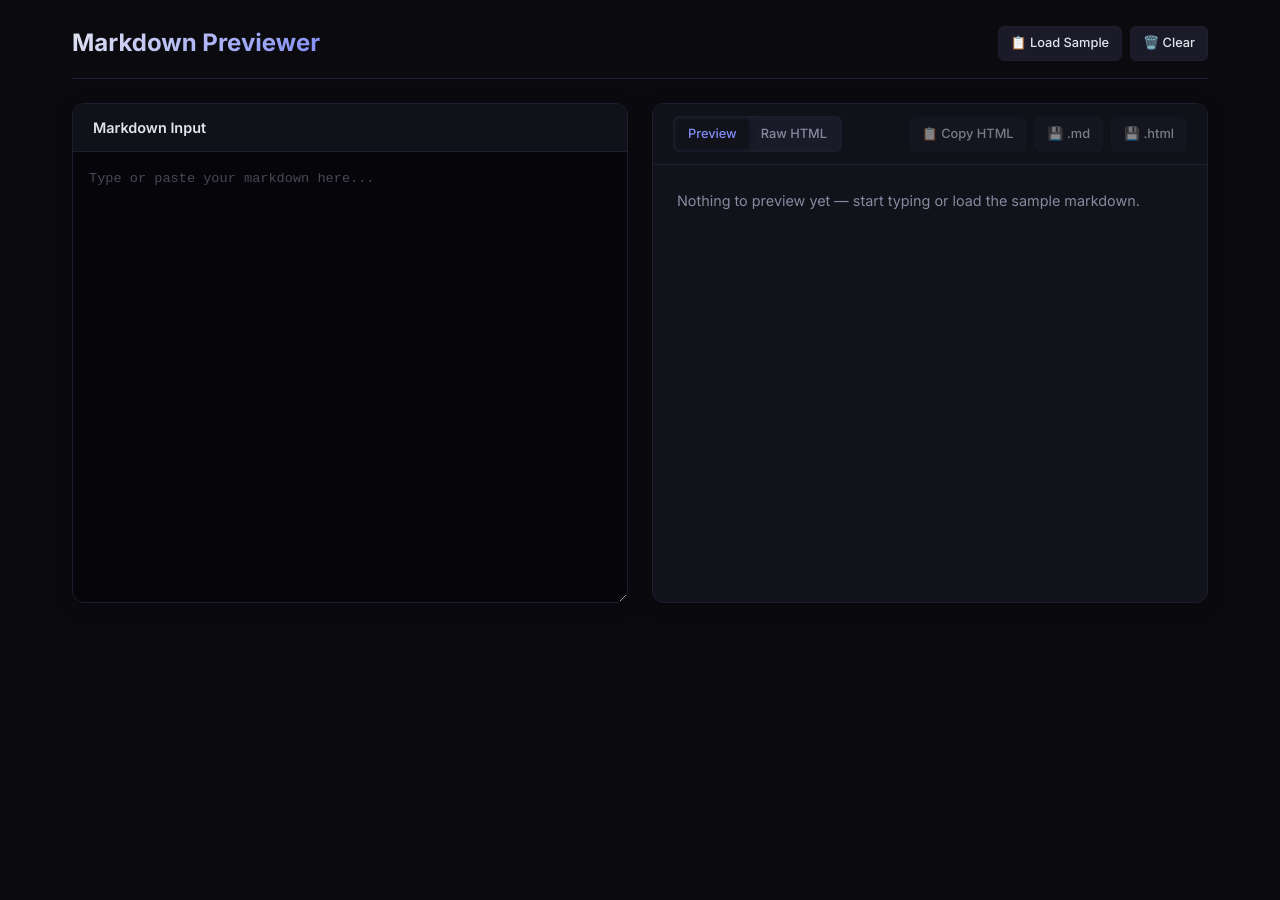
MarkdownTool actions › copies the generated HTML to the clipboard
In the text box named "Markdown input": {"x": 350, "y": 377} [73,152,627,602], type "# Title"
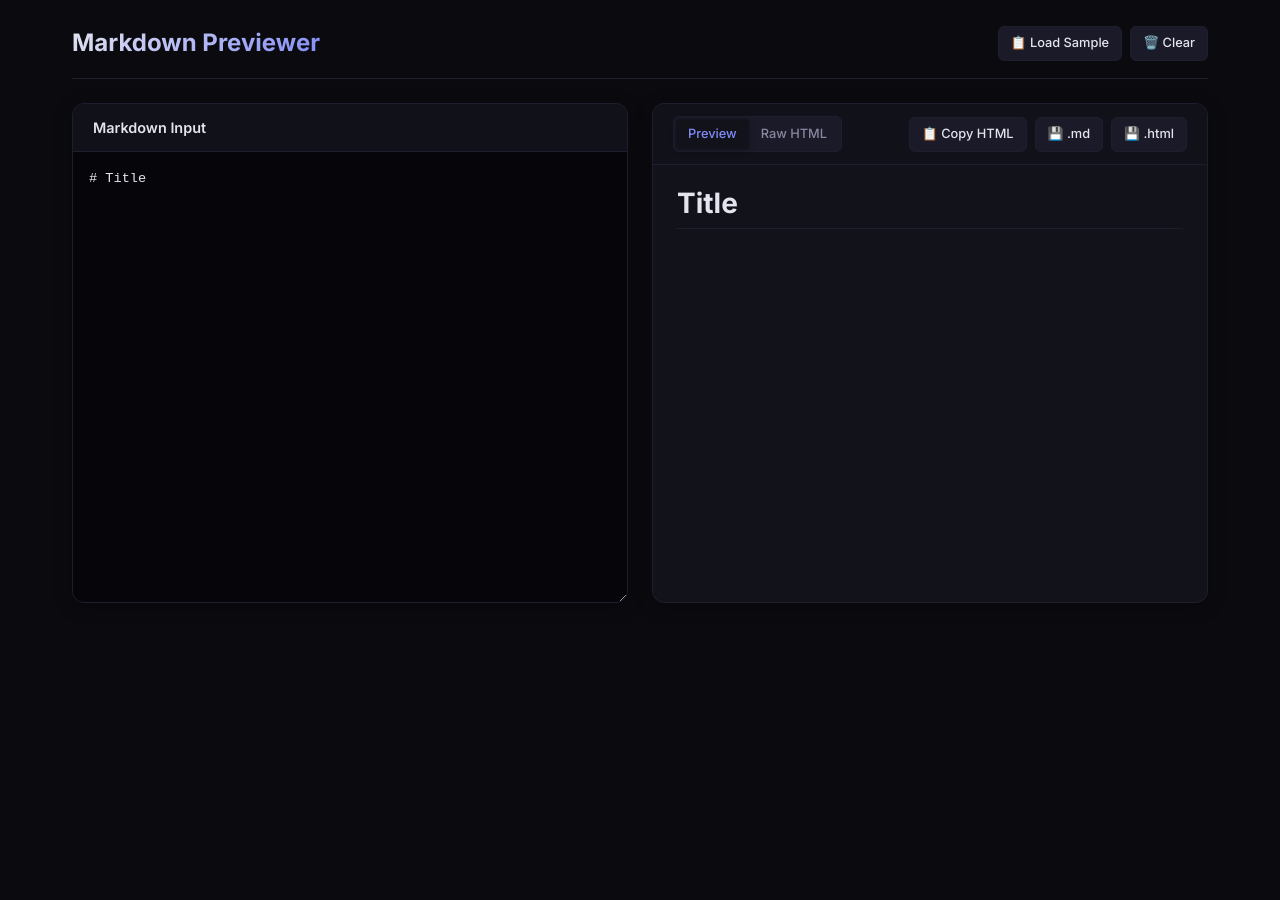
Click the button with aria-label "Copy generated HTML to clipboard": {"x": 968, "y": 134} [909,117,1026,152]
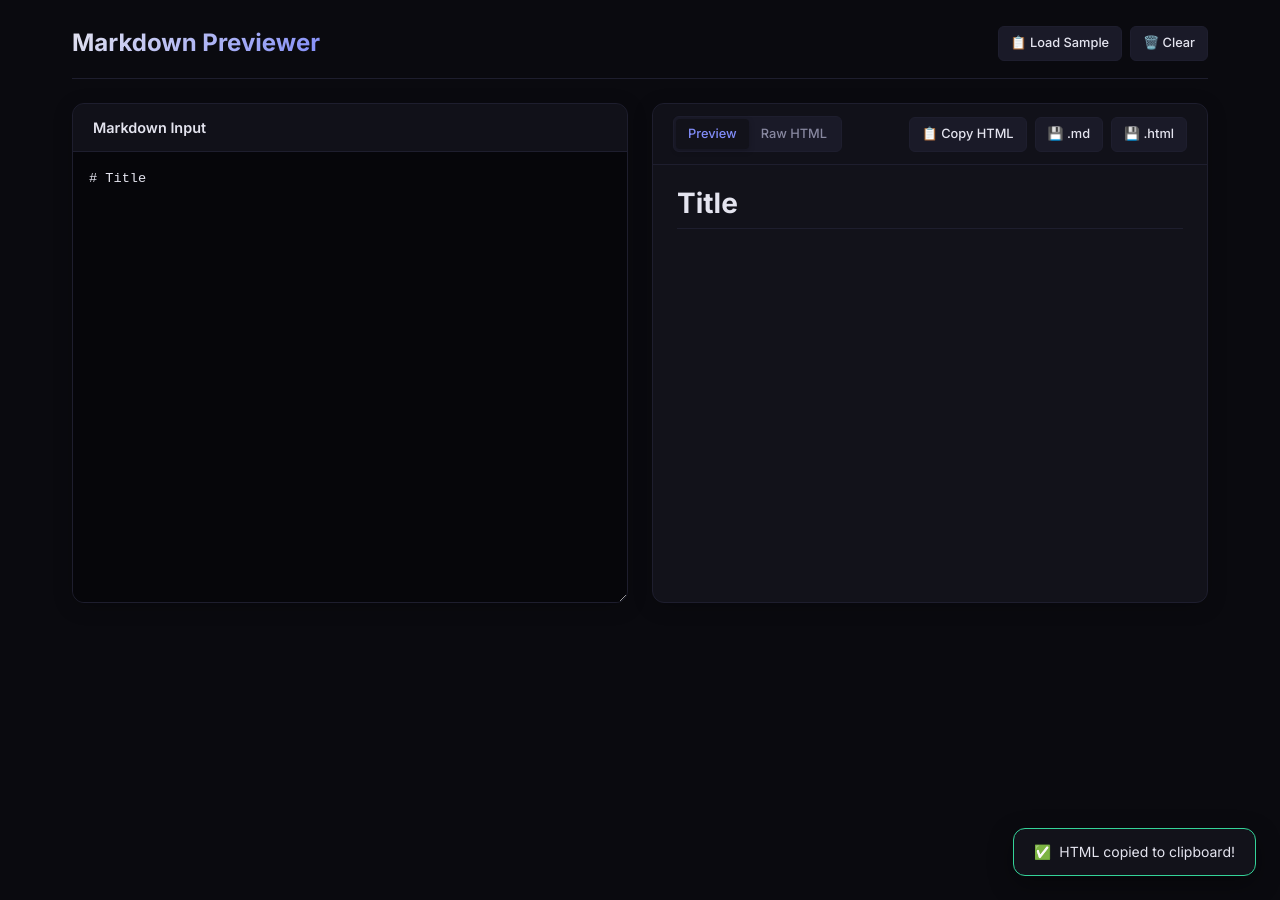
Expected: the message shows "HTML copied to clipboard!", [1059,843,1235,860]
